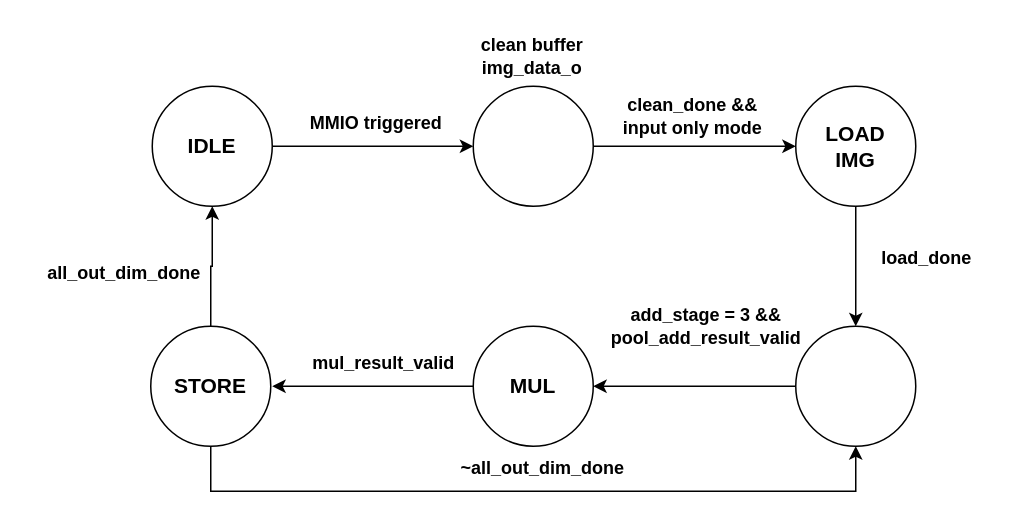
The diagram is 1011 pixels wide and 530 high, and some of its shapes have lost their labels. The shapes that lost their labels are listed below. From the top down, each one's centre as x and y in pixels, then its label:
the point at 532,145: INIT
the point at 855,385: ADD
